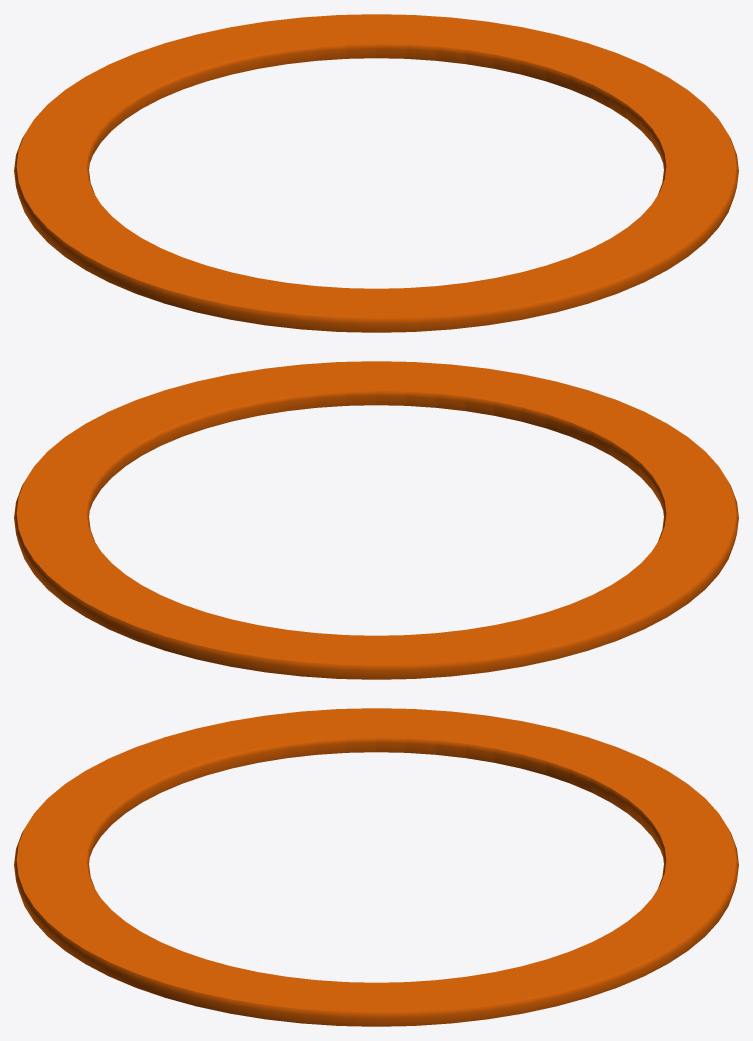
File: Cylindre_Potion_04.fbx
The picture shows the model from 3 angles, top to bottom: view 1: azimuth 30°, elevation 25°; view 2: azimuth 150°, elevation 25°; view 3: azimuth 270°, elevation 25°; orthographic projection.
Visible parts, largest first — view 1: Cylindre_Potion_04; view 2: Cylindre_Potion_04; view 3: Cylindre_Potion_04.
Boxes of the visible parts, x1=… form: Cylindre_Potion_04: x1=14, y1=14, x2=738, y2=332; Cylindre_Potion_04: x1=14, y1=361, x2=738, y2=679; Cylindre_Potion_04: x1=14, y1=708, x2=738, y2=1026.
Bounding box in the file's own units: 90.9 × 2 × 90.9.
